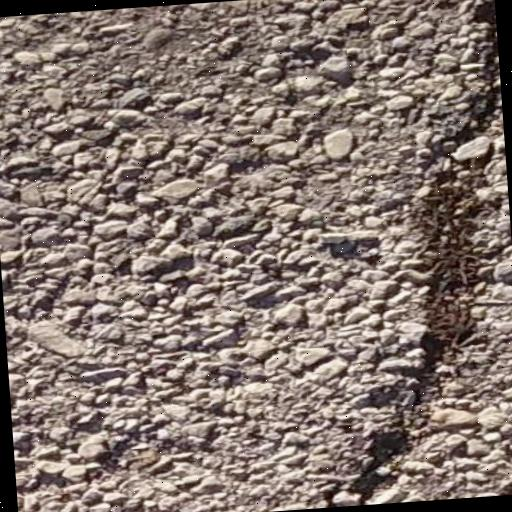spalling: (328, 7, 499, 496)
